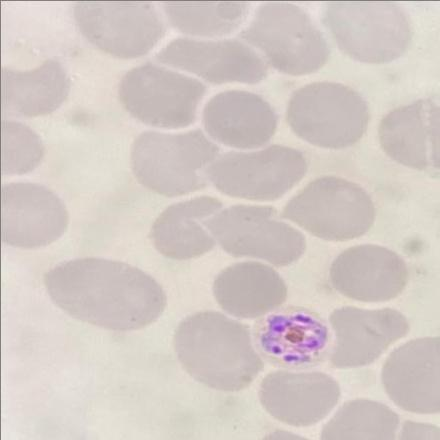Infected: (247, 306, 333, 367)
Uninfected: (42, 258, 167, 332), (173, 308, 261, 394), (238, 0, 327, 79), (194, 205, 304, 264), (129, 123, 215, 197), (156, 34, 265, 88), (322, 0, 409, 67), (73, 0, 163, 63), (202, 143, 302, 199), (282, 178, 374, 238), (287, 81, 368, 149), (117, 63, 199, 129), (329, 304, 407, 366), (151, 196, 224, 262), (383, 331, 440, 413), (378, 100, 440, 175), (258, 368, 339, 424), (0, 184, 68, 249), (212, 261, 289, 318), (202, 89, 276, 148), (331, 245, 410, 298)
